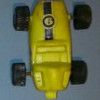amarillo_norte: (13, 1, 90, 99)
